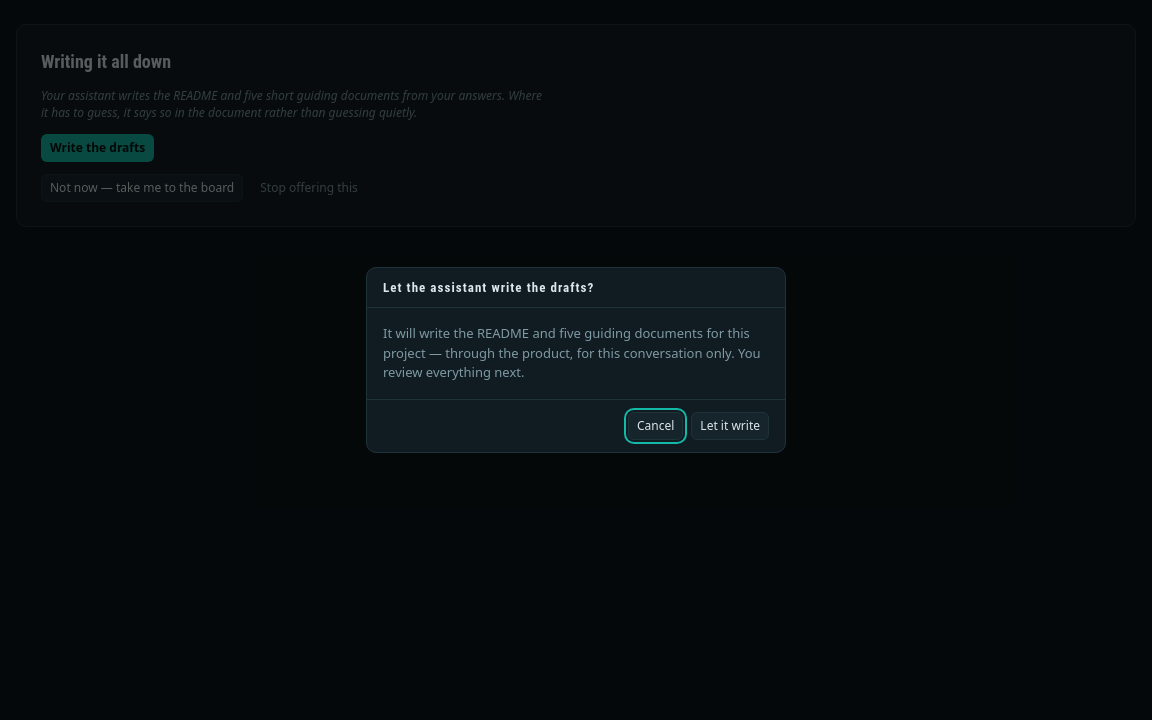
Test: the docs step › reads a failure out of this turn, not out of the conversation it is in
Click the button "Let it write": (730, 426) [691,412,769,440]
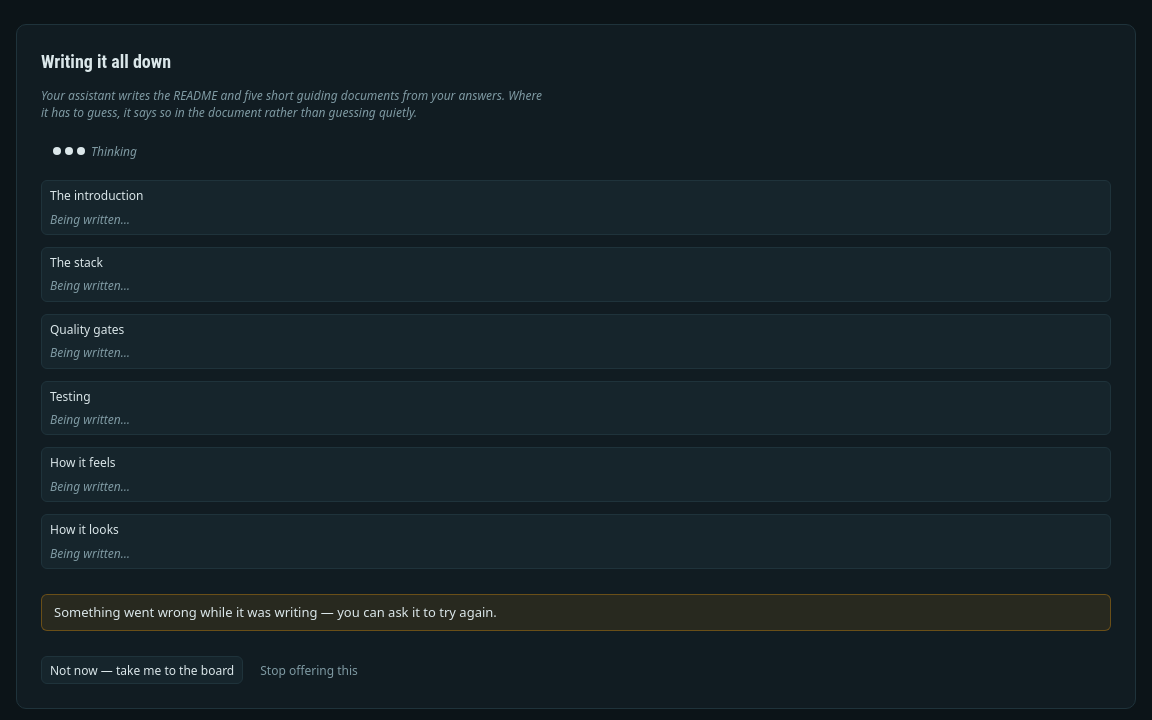
Expected: the text "Something went wrong while it was writing — you can ask it to try again." is shown, [41,594,1111,632]
